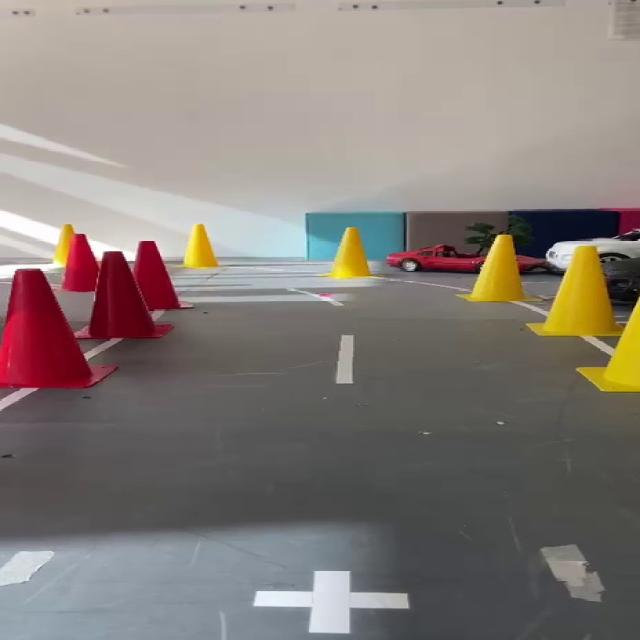Cone-red: (0, 269, 116, 388), (80, 252, 168, 339), (134, 241, 179, 308), (62, 233, 98, 292)
Cones-yellow: (528, 246, 622, 337), (577, 300, 639, 392), (461, 235, 527, 302), (330, 227, 370, 277), (183, 224, 218, 269), (52, 224, 73, 266)
